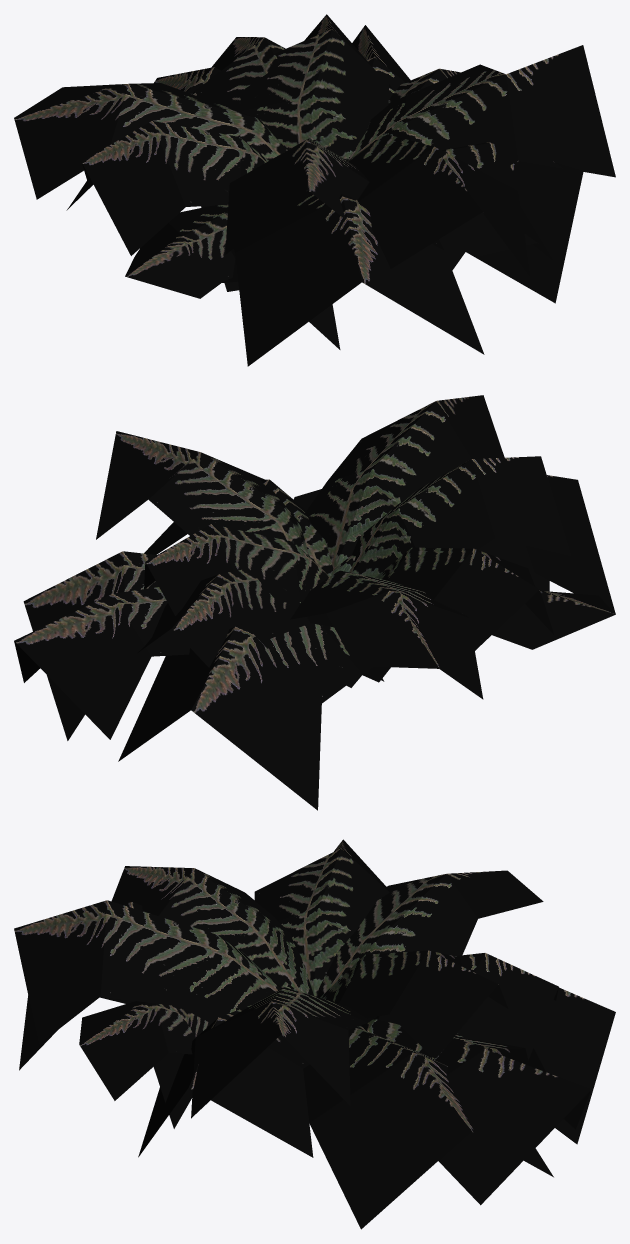
Rendered from fern.obj.
3 views of the same model, one above another, from view 1: azimuth 30°, elevation 25°; view 2: azimuth 150°, elevation 25°; view 3: azimuth 270°, elevation 25° (orthographic). The views are drawn at different scales.
Visible parts, largest first — view 1: fern_01b_Plane.001; view 2: fern_01b_Plane.001; view 3: fern_01b_Plane.001.
Part boxes in pixels (x1=…): fern_01b_Plane.001: x1=14, y1=14, x2=615, y2=366; fern_01b_Plane.001: x1=14, y1=395, x2=615, y2=810; fern_01b_Plane.001: x1=14, y1=839, x2=615, y2=1229.
Bounding box in the file's own units: 13.45 × 5.53 × 14.46.
